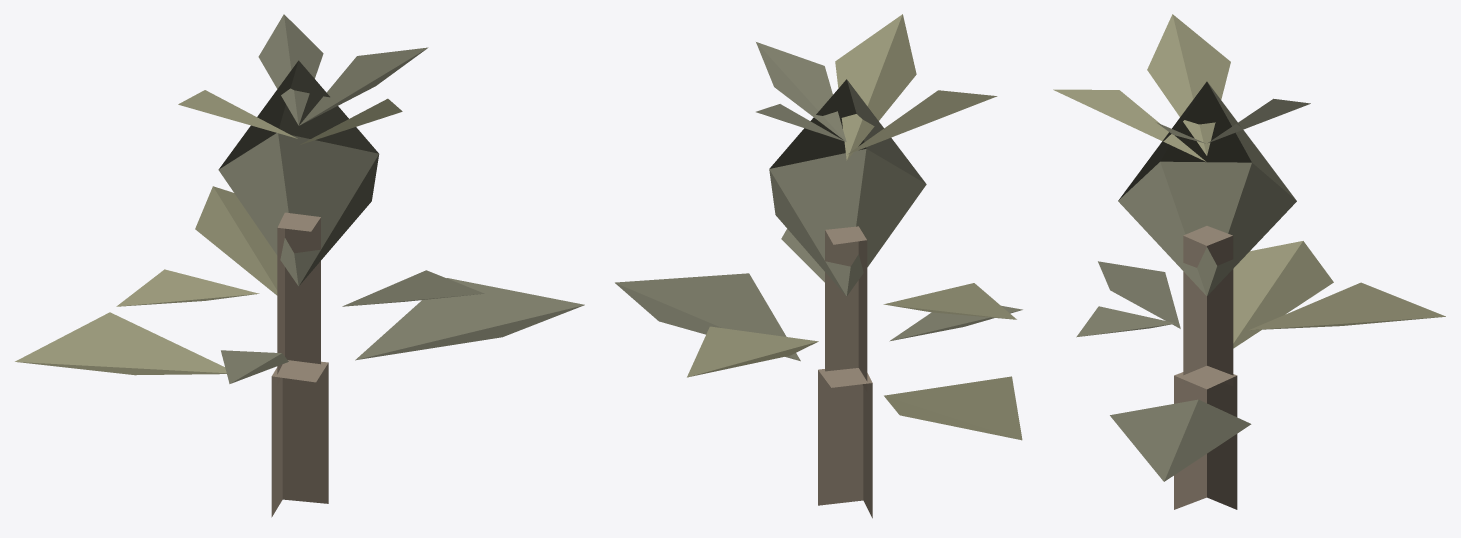
Rendered from shui.luweidang@seedling__winter.glb.
The picture shows the model from 3 angles, left to right: view 1: azimuth 30°, elevation 25°; view 2: azimuth 150°, elevation 25°; view 3: azimuth 270°, elevation 25°; orthographic projection. The views are drawn at different scales.
Parts seen in each view (by area): view 1: shui.luweidang@seedling__winter; view 2: shui.luweidang@seedling__winter; view 3: shui.luweidang@seedling__winter.
Boxes of the visible parts, bbox=[...] form: shui.luweidang@seedling__winter: bbox=[15, 14, 584, 517]; shui.luweidang@seedling__winter: bbox=[615, 14, 1022, 518]; shui.luweidang@seedling__winter: bbox=[1053, 14, 1445, 509].
Size of the model in its own units: 0.3681 by 0.3207 by 0.2656.
